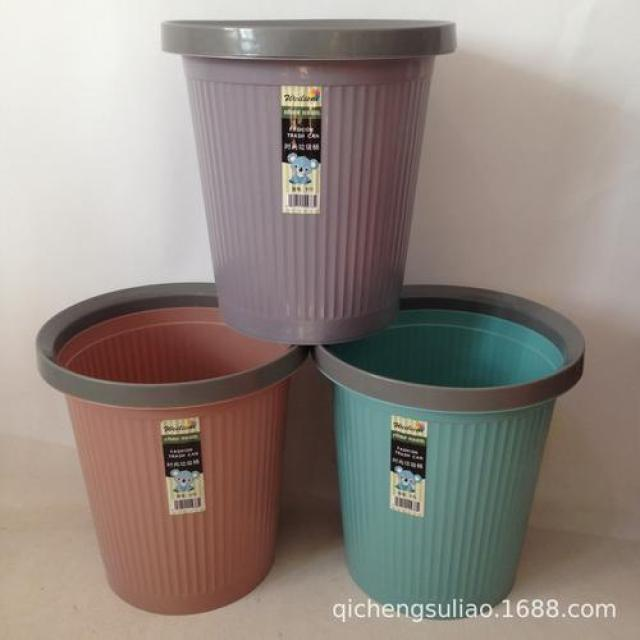dustbin: (156, 12, 460, 344), (31, 270, 312, 619), (313, 280, 589, 624)
